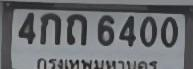0: (160, 16, 177, 47), (139, 15, 156, 46)
4: (118, 15, 135, 46), (18, 11, 34, 43)
6: (97, 14, 113, 45)
A01: (39, 12, 60, 44)
A22: (66, 13, 86, 45)
BKK: (33, 56, 162, 69)
